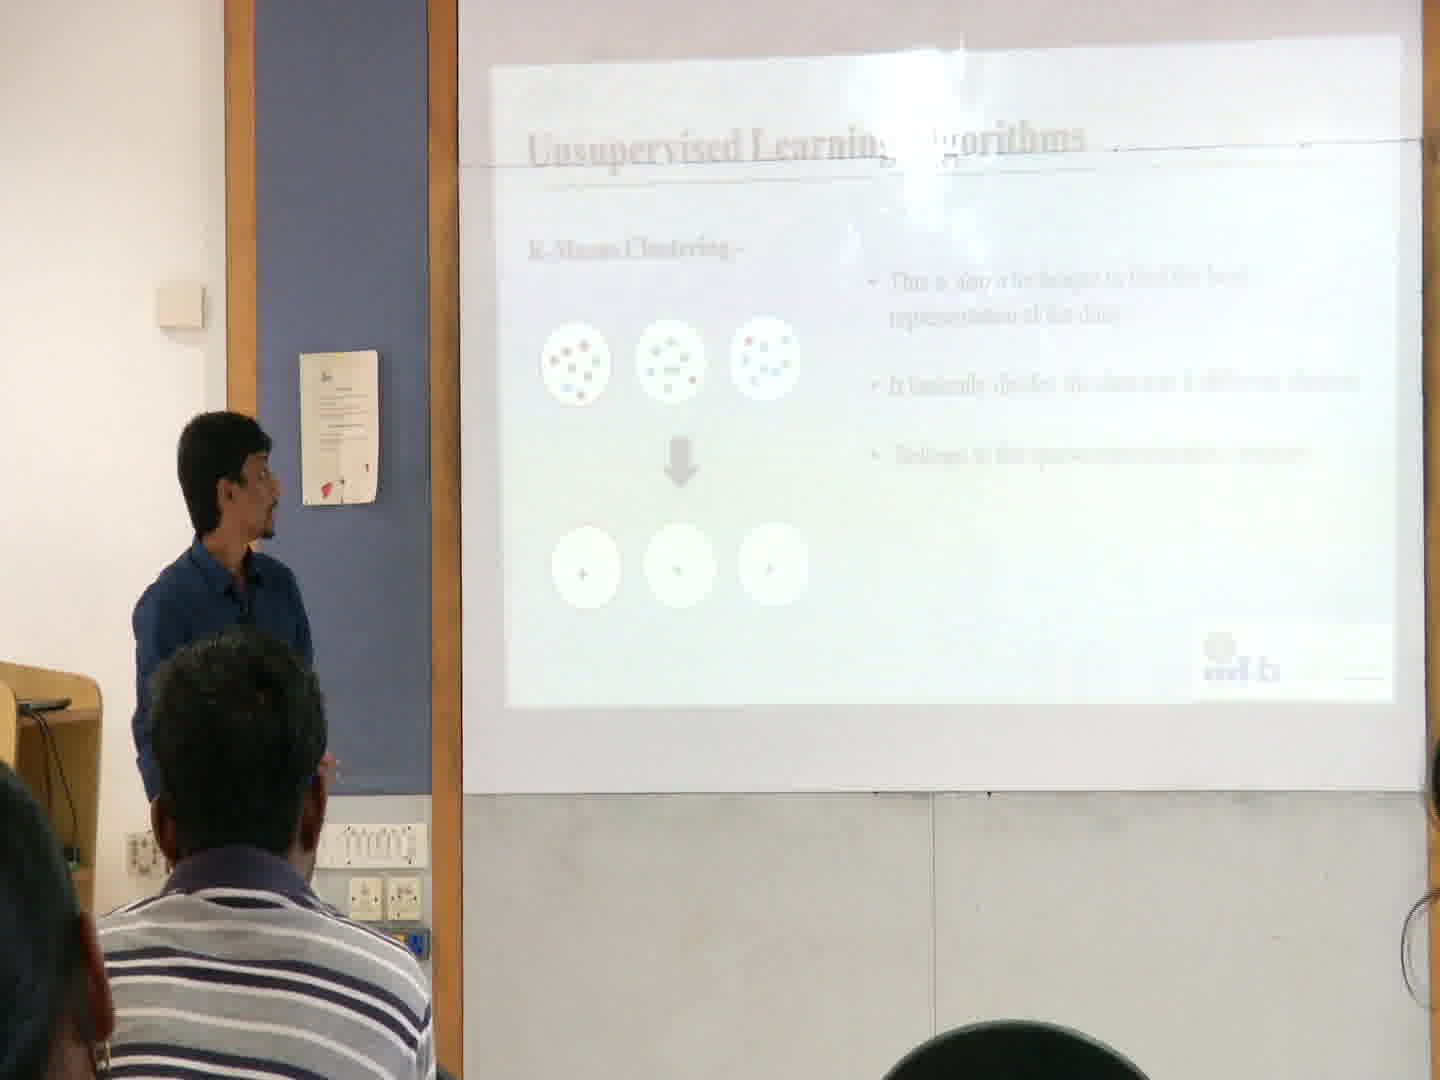slide: (488, 35, 1404, 703)
